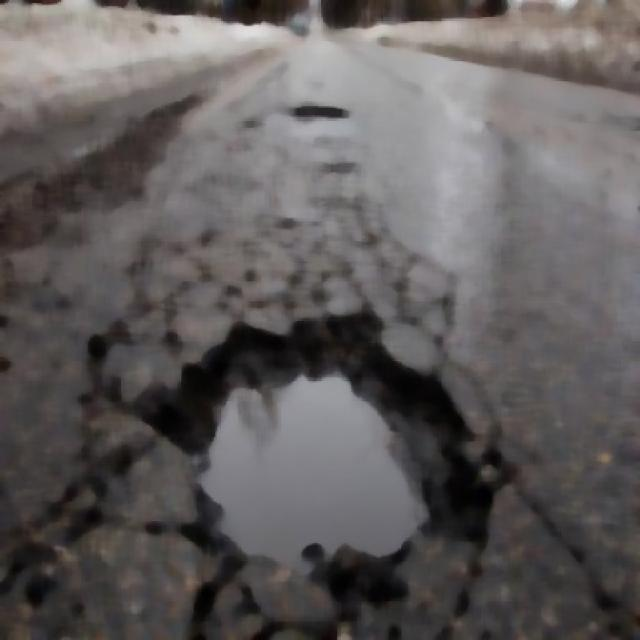Pothole: (180, 367, 440, 568)
